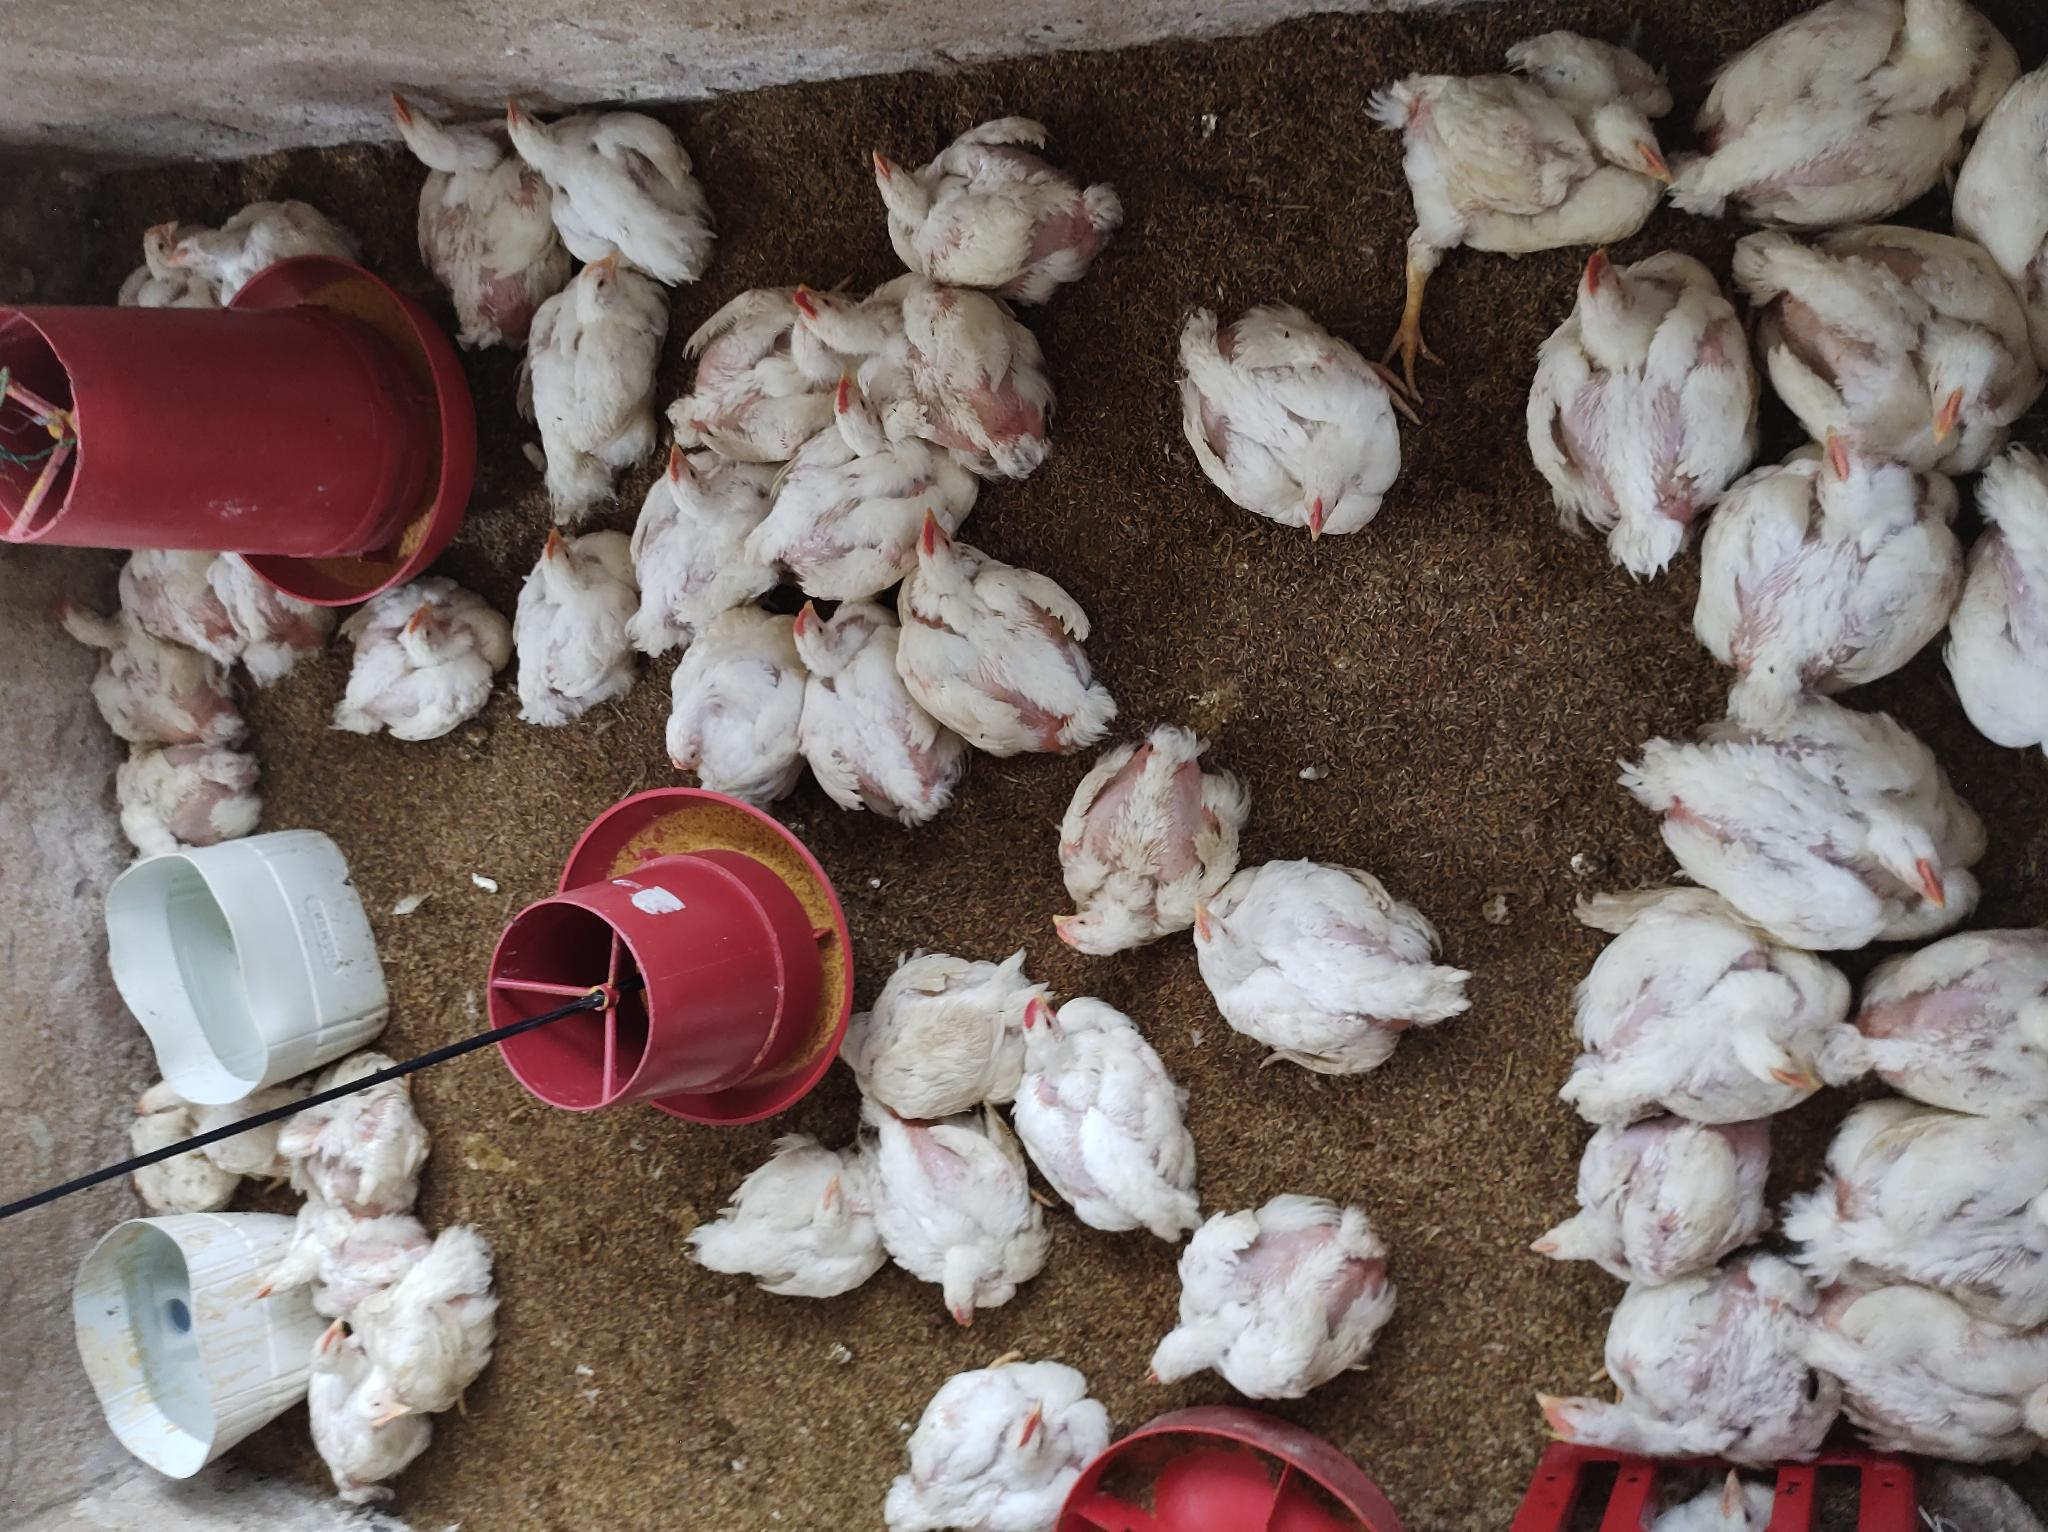Pollos: (1625, 681, 1987, 935), (1519, 225, 1755, 586), (1667, 3, 2025, 233), (1556, 863, 1855, 1126), (1738, 225, 2048, 473), (1358, 19, 1672, 264), (1689, 425, 1956, 708), (1174, 290, 1424, 555), (1191, 851, 1469, 1088), (1528, 1246, 1823, 1452), (1129, 1184, 1400, 1405), (909, 497, 1121, 756), (795, 277, 1059, 480), (755, 367, 978, 595), (375, 82, 574, 336), (862, 111, 1125, 299), (1014, 990, 1203, 1249), (1044, 723, 1252, 957), (1805, 1262, 2048, 1456), (1791, 1106, 2048, 1289), (496, 84, 729, 282), (1517, 1109, 1770, 1283), (877, 1345, 1112, 1529), (664, 266, 869, 467), (869, 1109, 1052, 1332), (524, 246, 677, 513), (795, 579, 960, 826), (1836, 924, 2048, 1114), (346, 1228, 512, 1443), (687, 1131, 890, 1302), (845, 951, 1038, 1126), (613, 462, 780, 661), (328, 574, 507, 740), (47, 594, 240, 747), (278, 1044, 436, 1221), (661, 612, 806, 803), (504, 521, 632, 732), (304, 1313, 446, 1497), (138, 196, 348, 306), (256, 1205, 430, 1316), (114, 740, 251, 855), (209, 546, 320, 679), (106, 550, 224, 673), (119, 1110, 228, 1217), (1643, 1460, 1778, 1529), (129, 1078, 195, 1120)
